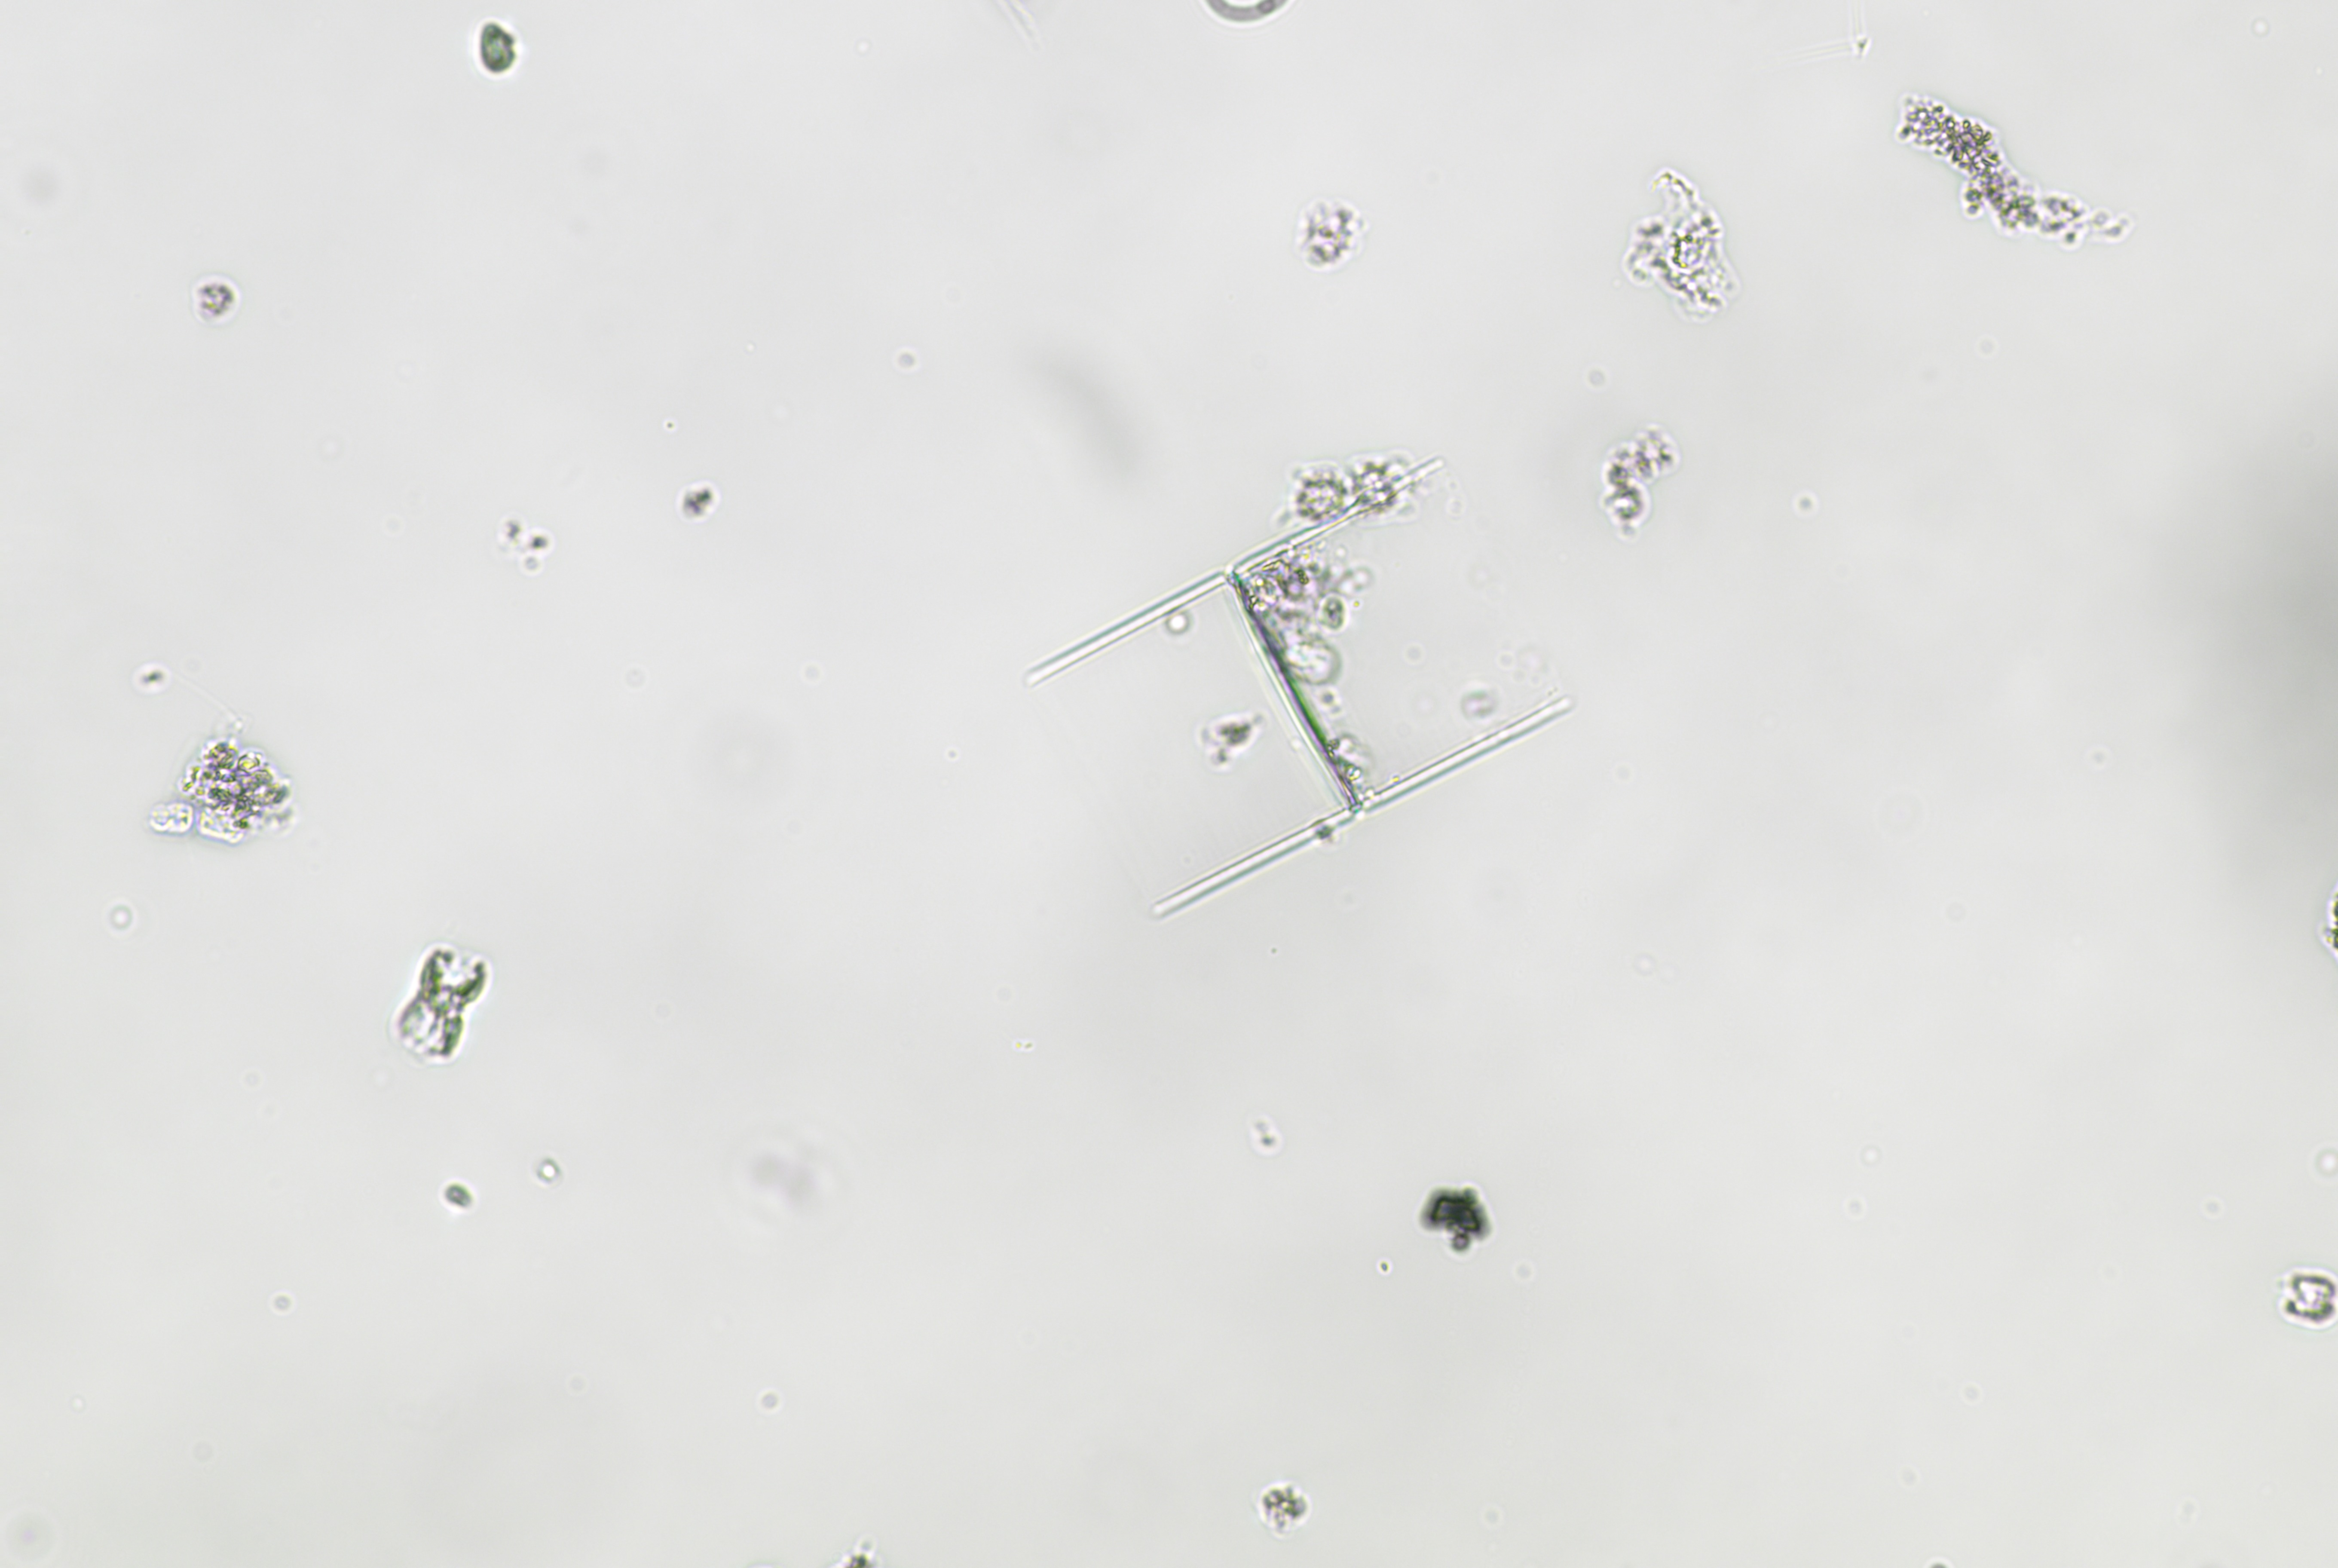guinardia flaccida: (1006, 464, 1592, 927)
